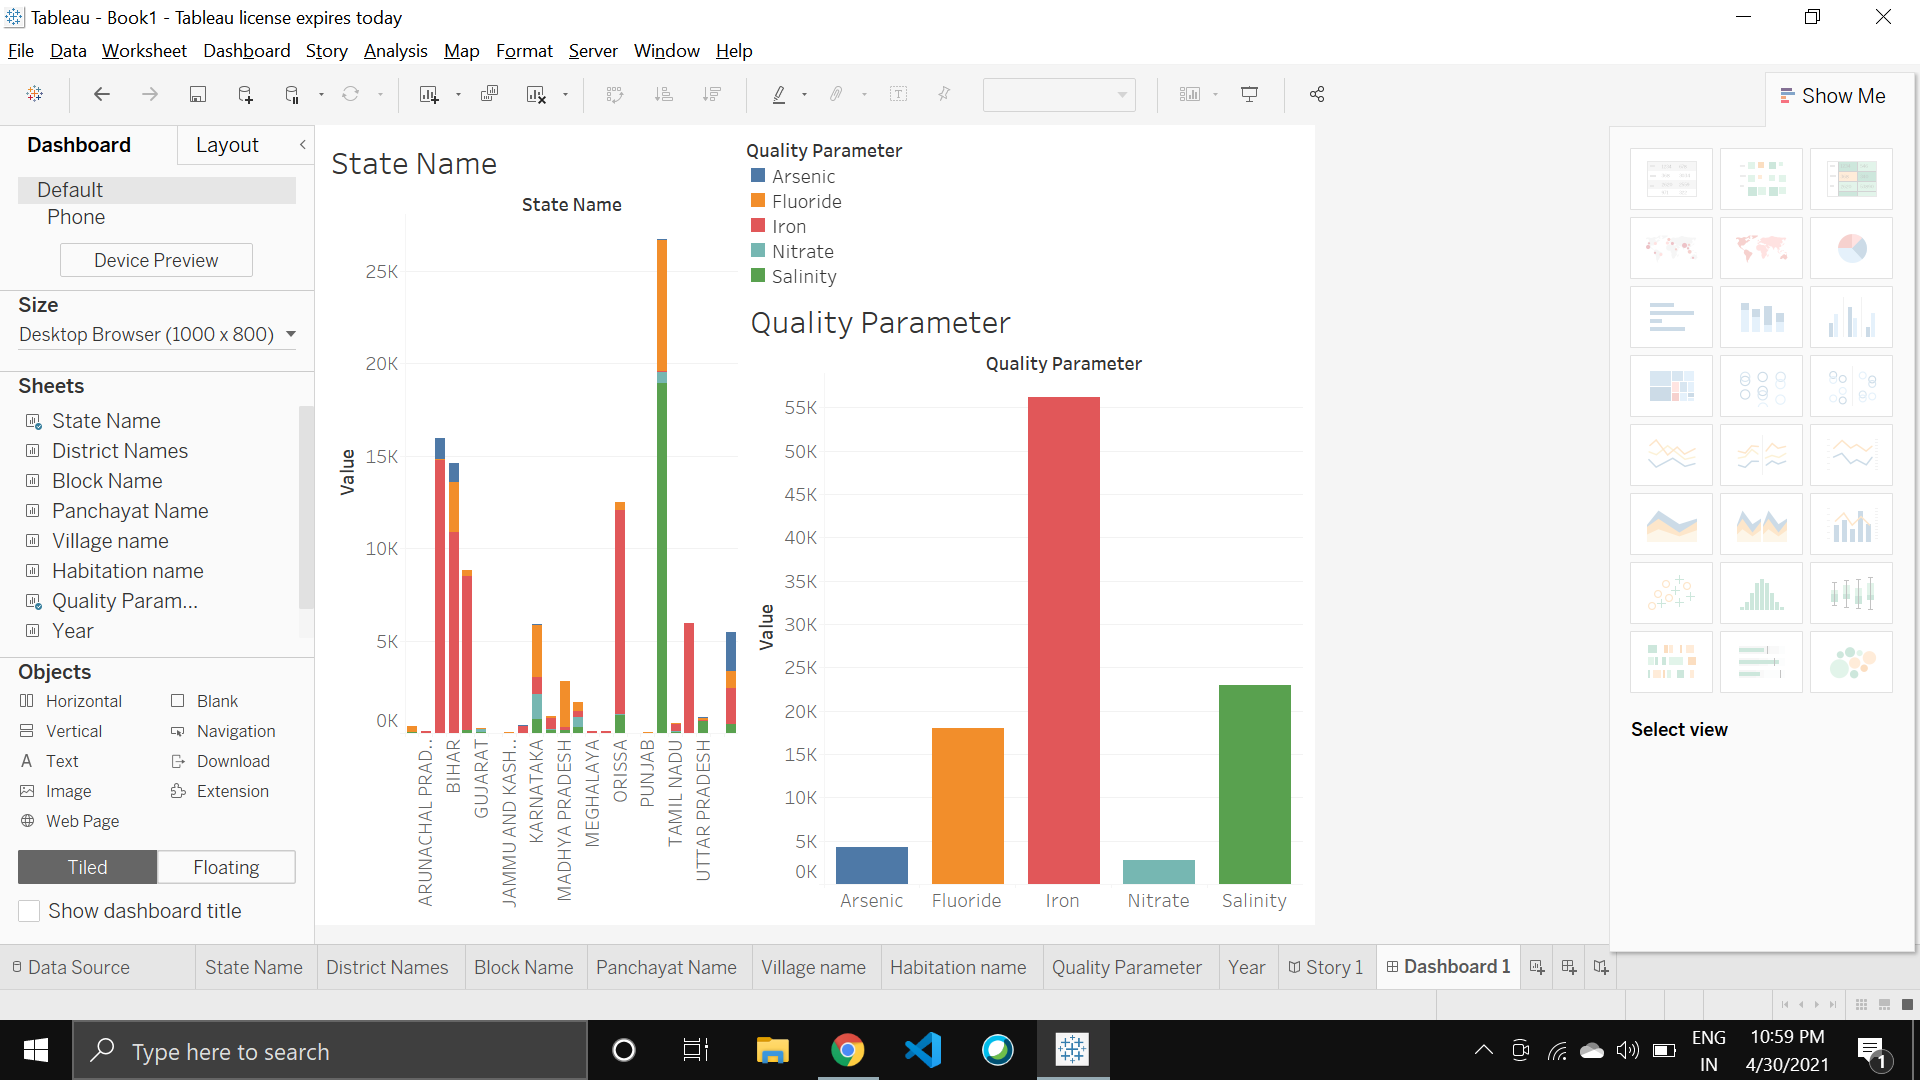

The page's visual inventory and layout, read from the dashboard file:
{"tool":"tableau","page":{"name":"Dashboard 1","canvas":[1000,800],"ordinal":0},"visuals":[{"type":"worksheet","box":[0,0,1000,800]},{"type":"worksheet","param":"vert","box":[8,8,984,784]},{"type":"worksheet","param":"horz","box":[8,8,984,784]},{"type":"worksheet","box":[8,8,419,784]},{"type":"worksheet","title":"State Name","mark":"Automatic","cols":["State Name"],"box":[8,8,419,784]},{"type":"worksheet","param":"vert","box":[427,8,565,784]},{"type":"worksheet","title":"State Name","mark":"Automatic","cols":["State Name"],"param":"[federated.0evzm5808gjrxw16xh1cj0mpmw1o].[none:Quality Parameter:nk]","box":[427,8,565,159]},{"type":"worksheet","title":"Quality Parameter","mark":"Automatic","cols":["Quality Parameter"],"box":[427,167,565,625]}]}

Visuals, with their boxes on the page's 1000x800 design canvas (x1, y1, x2, y2). These are canvas units, not pixel positions in the 1920x1080 screenshot, which may show the page scaled, cropped or inside an application window:
worksheet: crop(0, 0, 1000, 800)
worksheet: crop(8, 8, 992, 792)
worksheet: crop(8, 8, 992, 792)
worksheet: crop(8, 8, 427, 792)
"State Name" worksheet: crop(8, 8, 427, 792)
worksheet: crop(427, 8, 992, 792)
"State Name" worksheet: crop(427, 8, 992, 167)
"Quality Parameter" worksheet: crop(427, 167, 992, 792)
